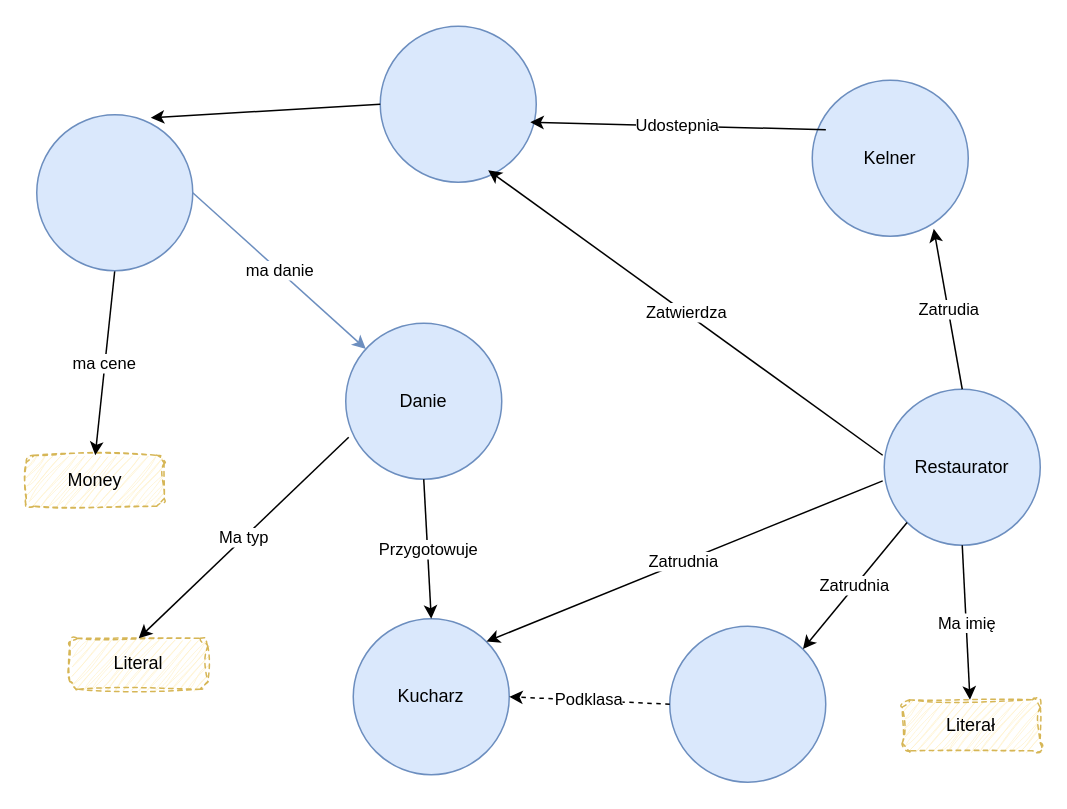
Some shapes in this 1067 by 809 pixel diagram are drawn without their labels. The centre of each missing label's shape, as x and y in pixels:
Menu: pixel 457 103
Pozycja menu: pixel 114 192
Szef kuchni: pixel 747 703
